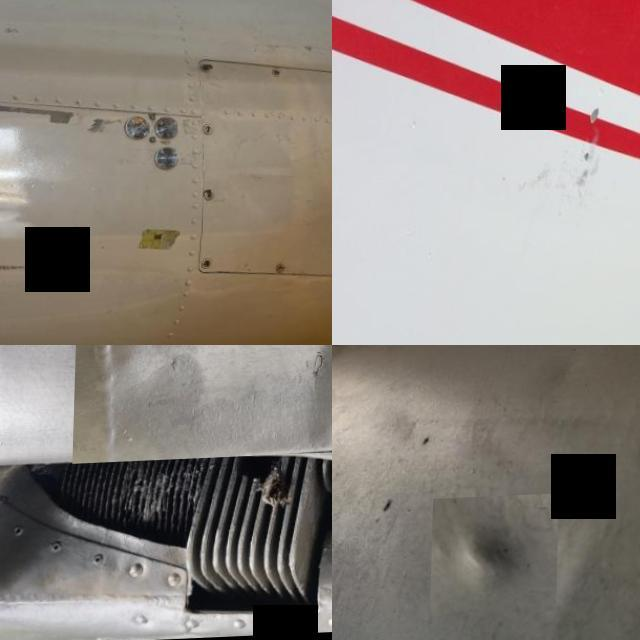Dent: (75, 345, 332, 464), (432, 498, 562, 620)
